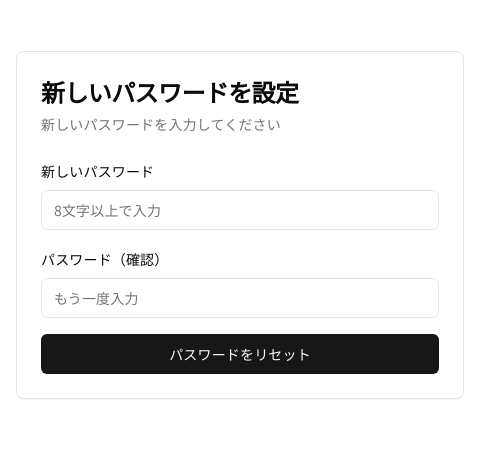
Test case: ResetPasswordPage › should display error on API failure
The width and height of the screenshot is (481, 451).
In the password field labelled "新しいパスワード": (240,210) [41,190,439,230], type "newPassword123"
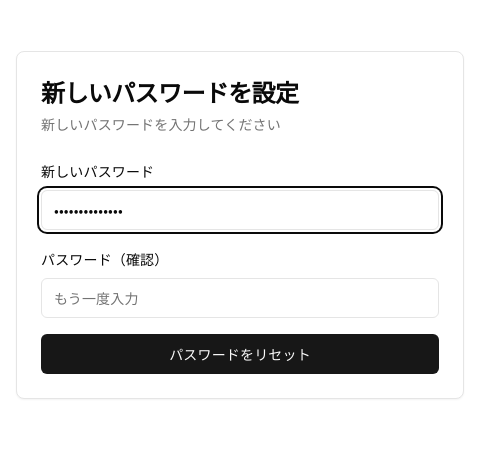
In the password field labelled "パスワード（確認）": (240,298) [41,278,439,318], type "newPassword123"
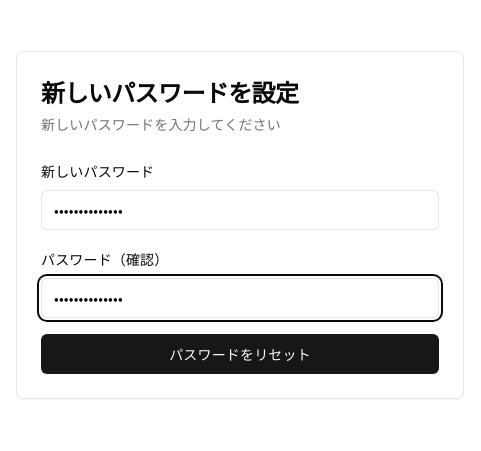
Click the button "パスワードをリセット": (240,354) [41,334,439,374]
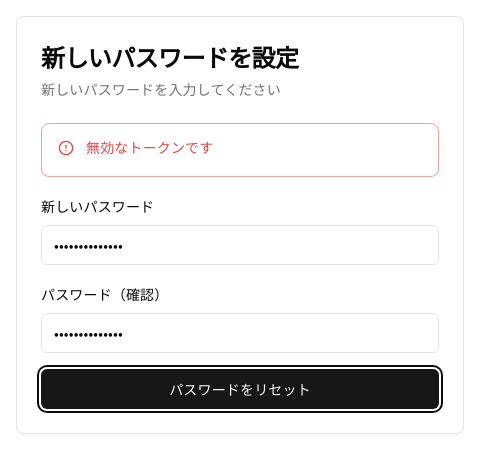
Result: the text "無効なトークンです" is shown at [86,137,214,157]
